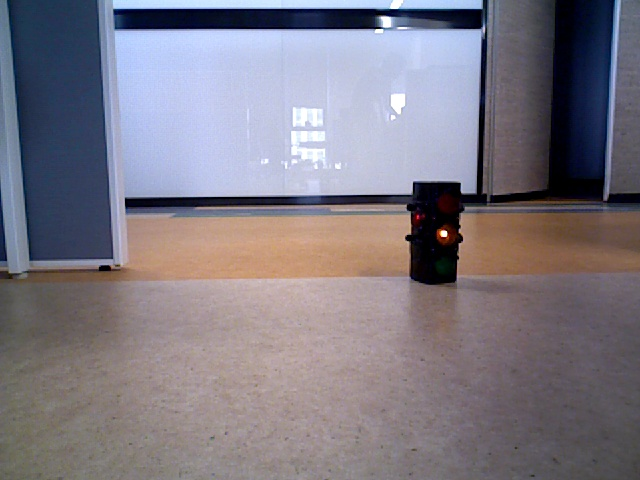yellow: (413, 182, 454, 282)
